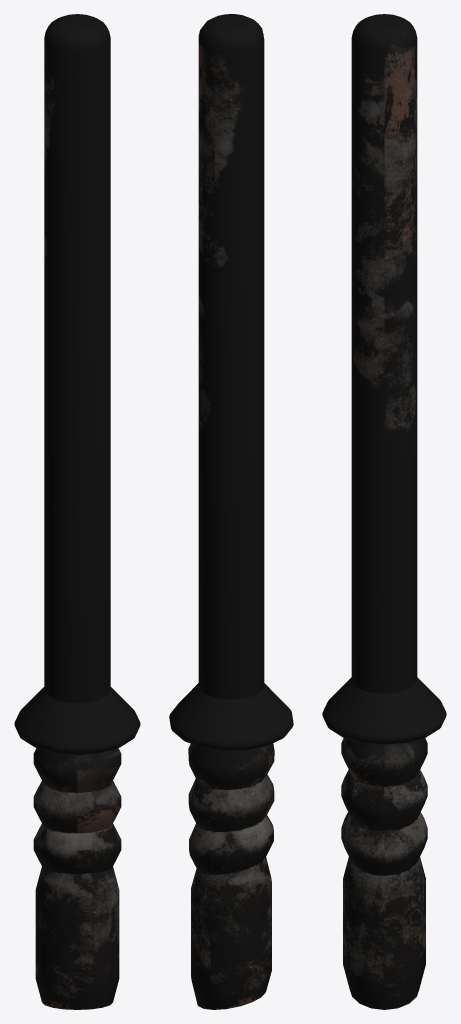
Rendered from 방범봉.fbx.
3 renders of one model, left to right at view 1: azimuth 90°, elevation 25°; view 2: azimuth 150°, elevation 25°; view 3: azimuth 270°, elevation 25°, orthographic.
Visible parts, largest first — view 1: 방범봉; view 2: 방범봉; view 3: 방범봉.
Boxes of the visible parts, bbox=[...] form: 방범봉: bbox=[14, 14, 140, 1009]; 방범봉: bbox=[169, 14, 293, 1009]; 방범봉: bbox=[322, 14, 446, 1009].
Size of the model in its own units: 8.6 by 74.33 by 8.6.
